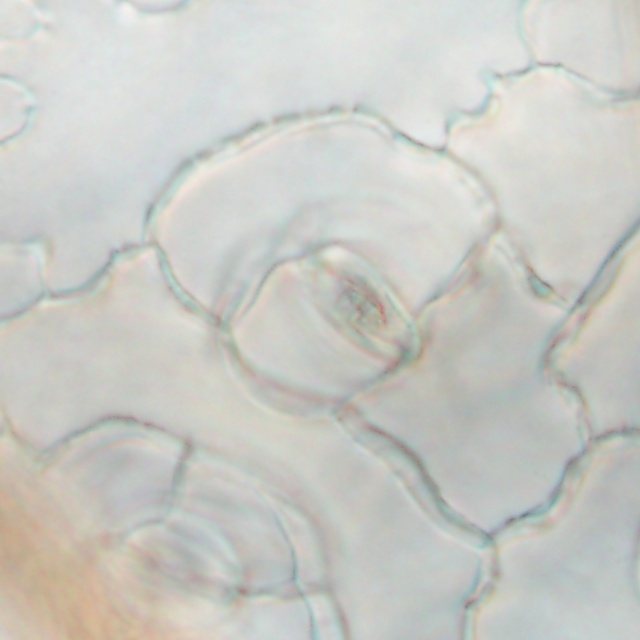center: (106, 505, 245, 607), (144, 6, 170, 8)
stomata-huw1: (95, 502, 259, 639), (128, 1, 186, 13)
